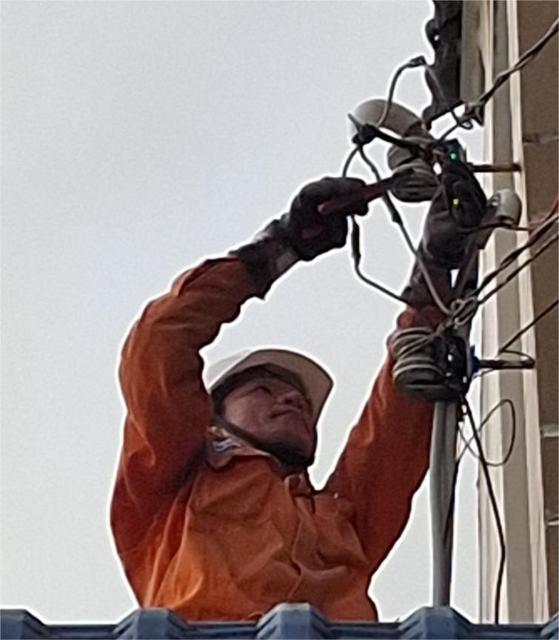gloves: (216, 156, 372, 286), (404, 160, 499, 273)
helmet: (189, 314, 364, 449)
